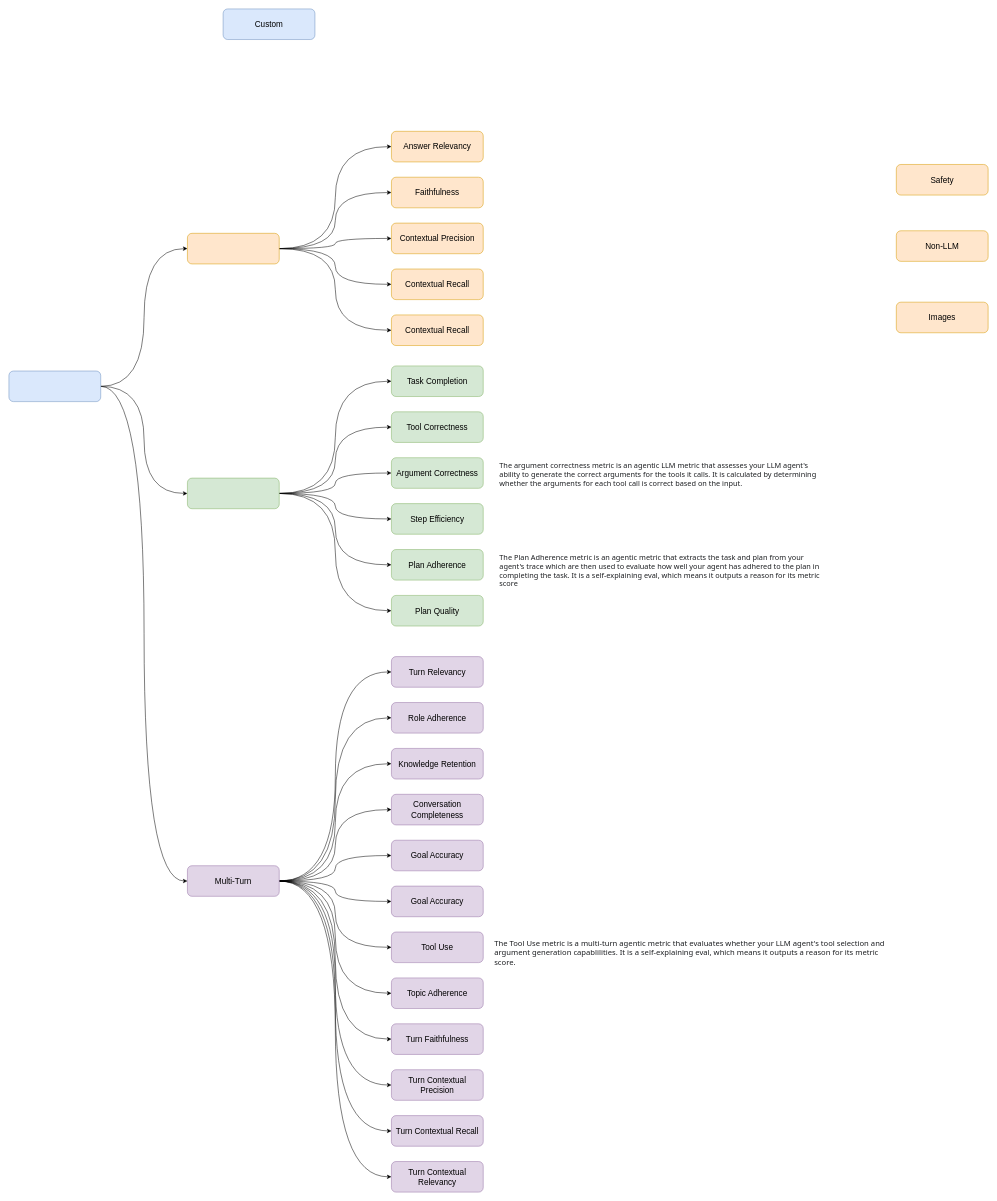
The diagram is 997 pixels wide and 1201 high, and some of its shapes have lost their labels. Here are the shapes that lost their labels. From the top down, the centre of each, then its label:
the point at 233,248: RAG
the point at 54,386: Eval Metrics
the point at 233,493: Agentic
